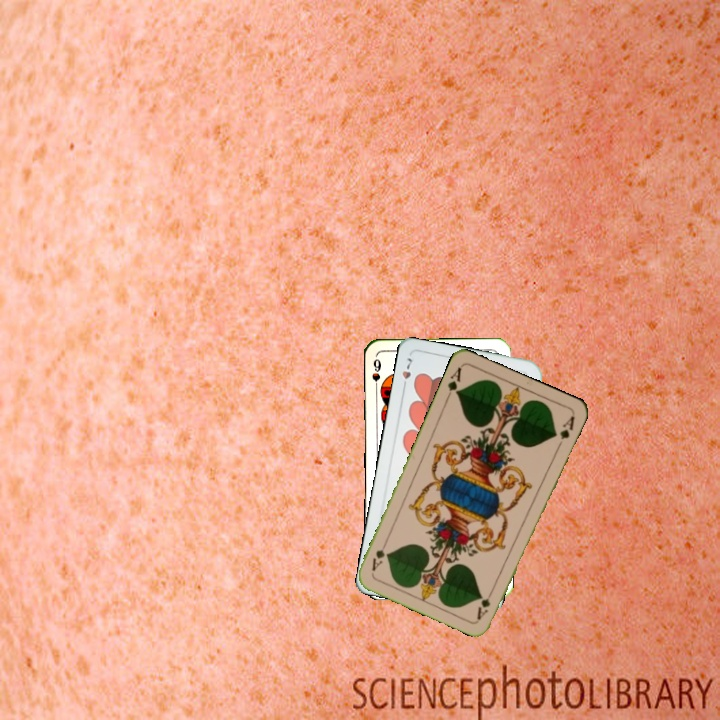GA: (473, 583, 497, 622), (442, 363, 464, 402)
H7: (398, 354, 415, 393)
S9: (368, 355, 383, 395)
